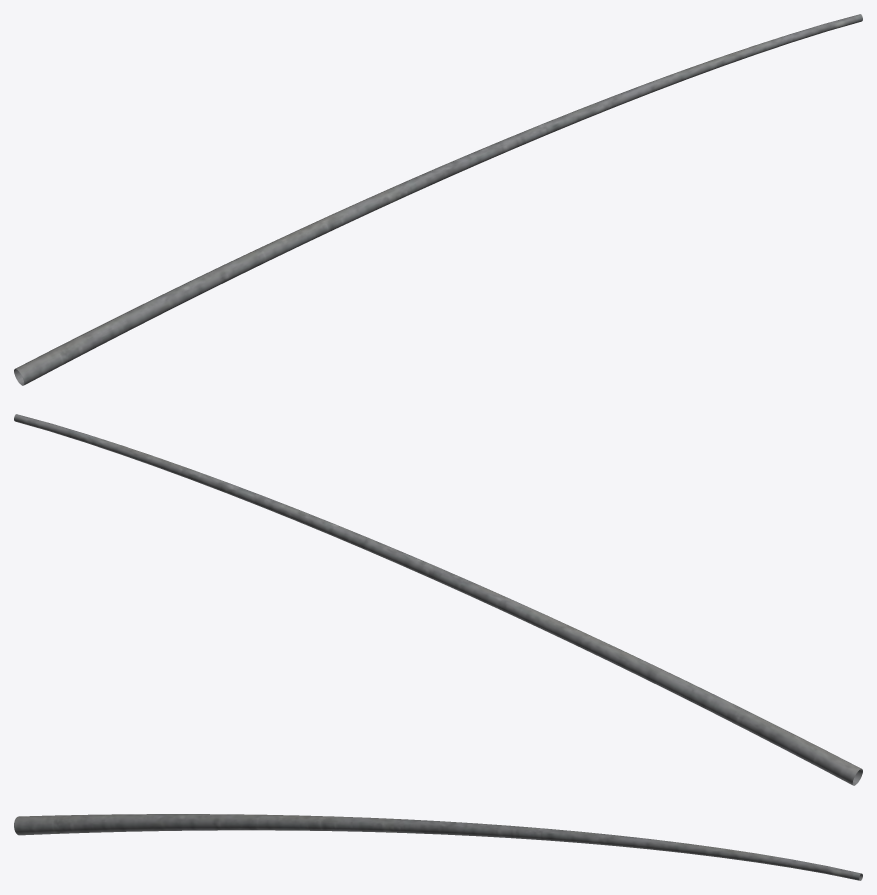
The model's file is armRise5-v1-galvanised.glb.
3 views of the same model, one above another, from view 1: azimuth 30°, elevation 25°; view 2: azimuth 150°, elevation 25°; view 3: azimuth 330°, elevation 25° (orthographic).
Visible parts, largest first — view 1: armRise5-v1-galvanised; view 2: armRise5-v1-galvanised; view 3: armRise5-v1-galvanised.
Boxes of the visible parts, box(x1,y1,x2,y2) form: armRise5-v1-galvanised: box(14, 14, 862, 385); armRise5-v1-galvanised: box(14, 414, 862, 785); armRise5-v1-galvanised: box(14, 814, 862, 880).
Bounding box in the file's own units: 12.22 × 2.3 × 0.2381.
1 material, 1 textured.
